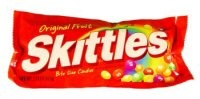grozi_38: (7, 9, 194, 88)
